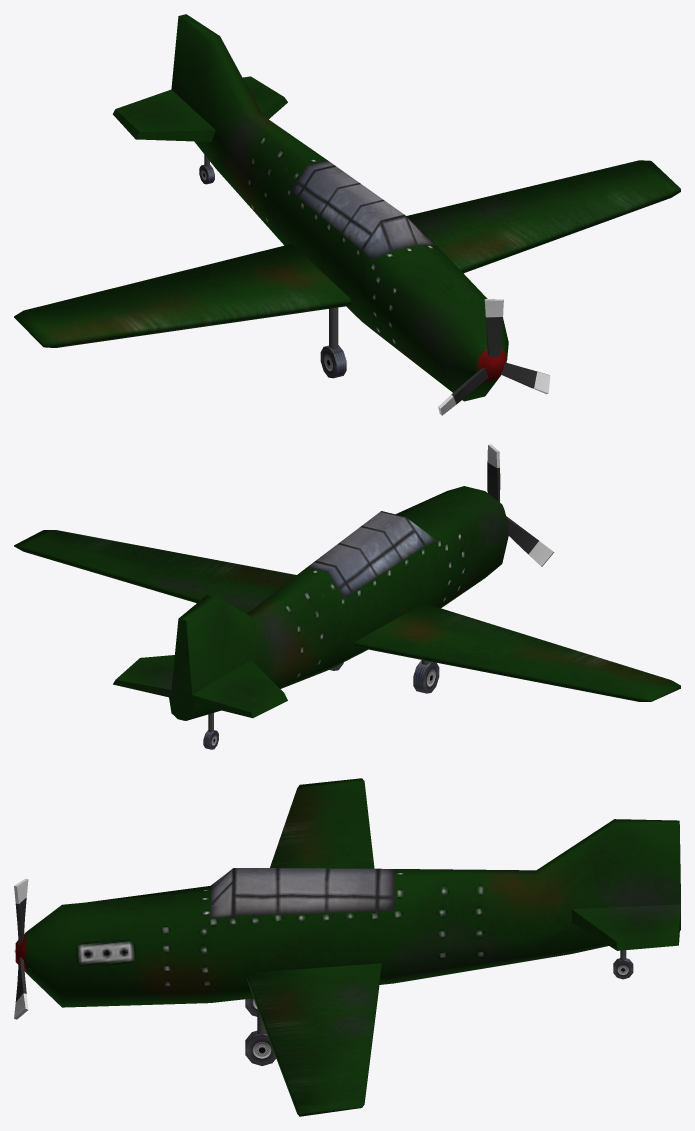
3 views of the same model, one above another, from view 1: azimuth 30°, elevation 25°; view 2: azimuth 150°, elevation 25°; view 3: azimuth 270°, elevation 25° (orthographic). The views are drawn at different scales.
Parts seen in each view (by area): view 1: Plane, Propeller; view 2: Plane, Propeller; view 3: Plane, Propeller.
Part boxes in pixels (bbox=[...]): Plane: bbox=[14, 14, 680, 401]; Propeller: bbox=[438, 299, 550, 415]; Plane: bbox=[14, 486, 680, 749]; Propeller: bbox=[487, 444, 554, 566]; Plane: bbox=[15, 778, 680, 1116]; Propeller: bbox=[14, 878, 28, 1019].
Bounding box in the file's own units: 121 × 37.21 × 104.
